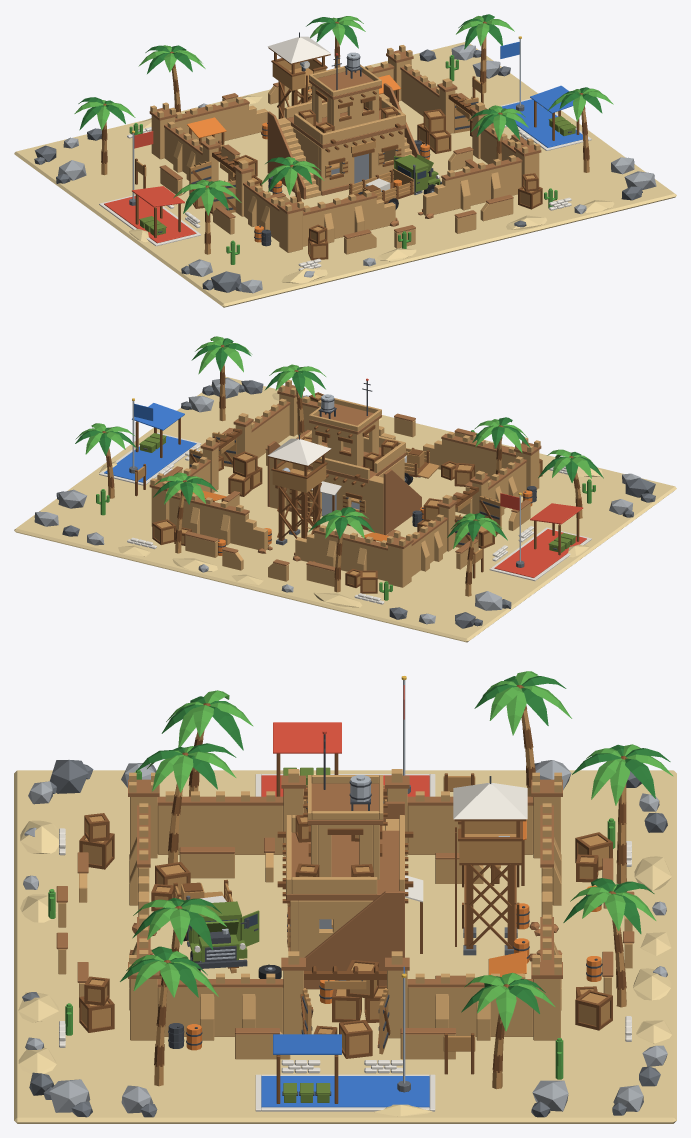
File: desert_outpost.glb
3 views of the same model, one above another, from view 1: azimuth 30°, elevation 25°; view 2: azimuth 150°, elevation 25°; view 3: azimuth 270°, elevation 25° (orthographic). The views are drawn at different scales.
Parts seen in each view (by area): view 1: desert_outpost.010, desert_outpost.007, desert_outpost.008, desert_outpost.002, desert_outpost.006, desert_outpost.011, desert_outpost.013, desert_outpost.012, desert_outpost.001, desert_outpost.009, desert_outpost.005, desert_outpost.015 (+4 smaller); view 2: desert_outpost.010, desert_outpost.007, desert_outpost.002, desert_outpost.008, desert_outpost.006, desert_outpost.011, desert_outpost.013, desert_outpost.001, desert_outpost.012, desert_outpost.005, desert_outpost.015, desert_outpost.009 (+4 smaller); view 3: desert_outpost.010, desert_outpost.007, desert_outpost.008, desert_outpost.002, desert_outpost.006, desert_outpost.011, desert_outpost.013, desert_outpost.001, desert_outpost.012, desert_outpost.015, desert_outpost.009, desert_outpost.016 (+4 smaller).
Boxes of the visible parts, x1,y1,x2,y2 form: desert_outpost.010: (14,42,676,307); desert_outpost.007: (150,45,540,254); desert_outpost.008: (149,50,541,238); desert_outpost.002: (101,21,589,260); desert_outpost.006: (101,36,589,257); desert_outpost.011: (74,16,613,264); desert_outpost.013: (78,14,602,213); desert_outpost.012: (58,44,656,293); desert_outpost.001: (99,36,591,270); desert_outpost.009: (34,49,654,292); desert_outpost.005: (104,53,338,243); desert_outpost.015: (500,42,582,147); desert_outpost.010: (14,376,676,642); desert_outpost.007: (150,380,540,587); desert_outpost.002: (102,345,582,593); desert_outpost.008: (149,385,541,571); desert_outpost.006: (106,364,582,596); desert_outpost.011: (75,336,595,600); desert_outpost.013: (75,338,603,541); desert_outpost.001: (99,432,591,604); desert_outpost.012: (34,377,640,624); desert_outpost.005: (366,378,586,577); desert_outpost.015: (104,403,196,482); desert_outpost.009: (34,380,655,628); desert_outpost.010: (14,770,676,1123); desert_outpost.007: (58,769,632,1059); desert_outpost.008: (56,775,634,1034); desert_outpost.002: (79,685,627,1103); desert_outpost.006: (81,708,626,1089); desert_outpost.011: (48,671,673,1079); desert_outpost.013: (120,675,670,1013); desert_outpost.001: (59,774,631,1111); desert_outpost.012: (23,760,667,1113); desert_outpost.015: (261,966,429,1107); desert_outpost.009: (22,760,667,1117); desert_outpost.016: (188,767,330,1102).
Size of the model in its own units: 42 by 11.57 by 33.6.
